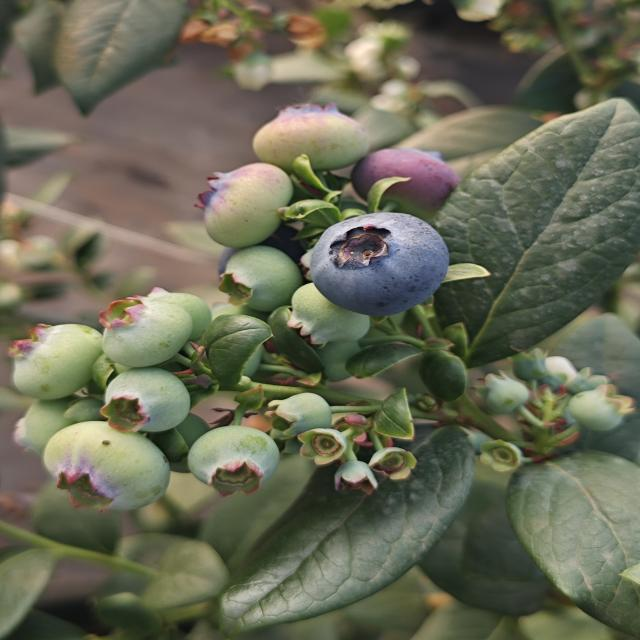ripe: (306, 215, 454, 313), (210, 214, 308, 282)
